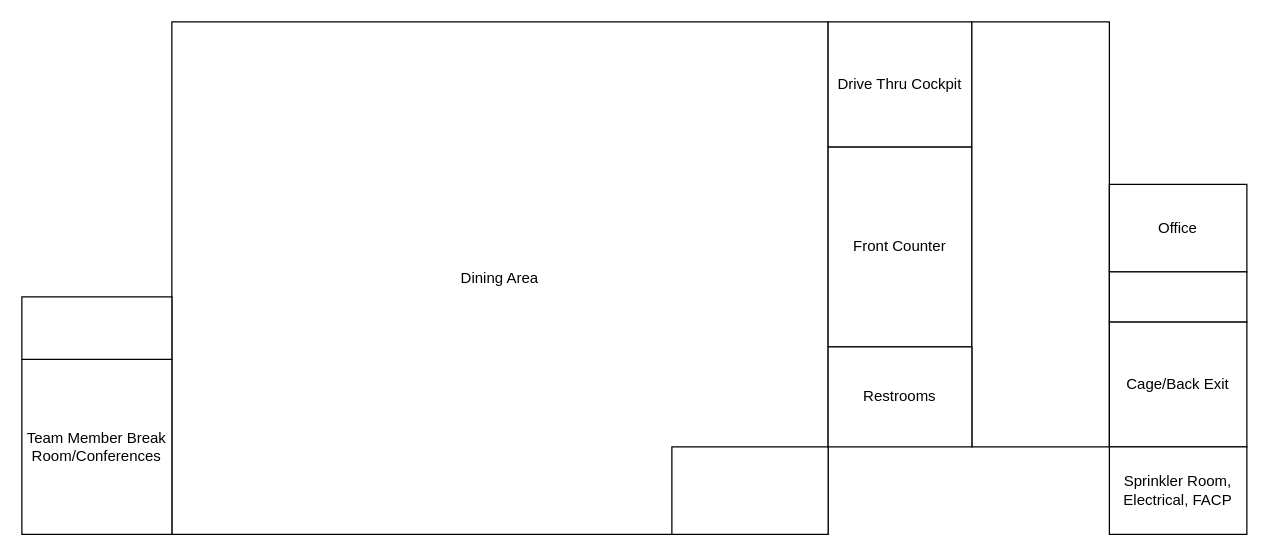
Some shapes in this 1269 by 556 pixel diagram are drawn without their labels. Each missing label, with the centre of its shape:
"Entrance" belongs at point (749, 490).
"Hallway" belongs at point (1177, 296).
"Kitchen" belongs at point (1040, 234).
"Staff Restroom" belongs at point (96, 327).
